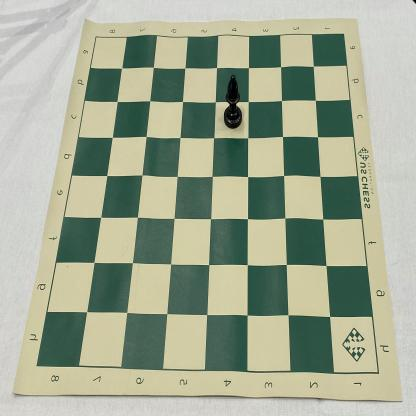black-bishop: (223, 74, 243, 130)
